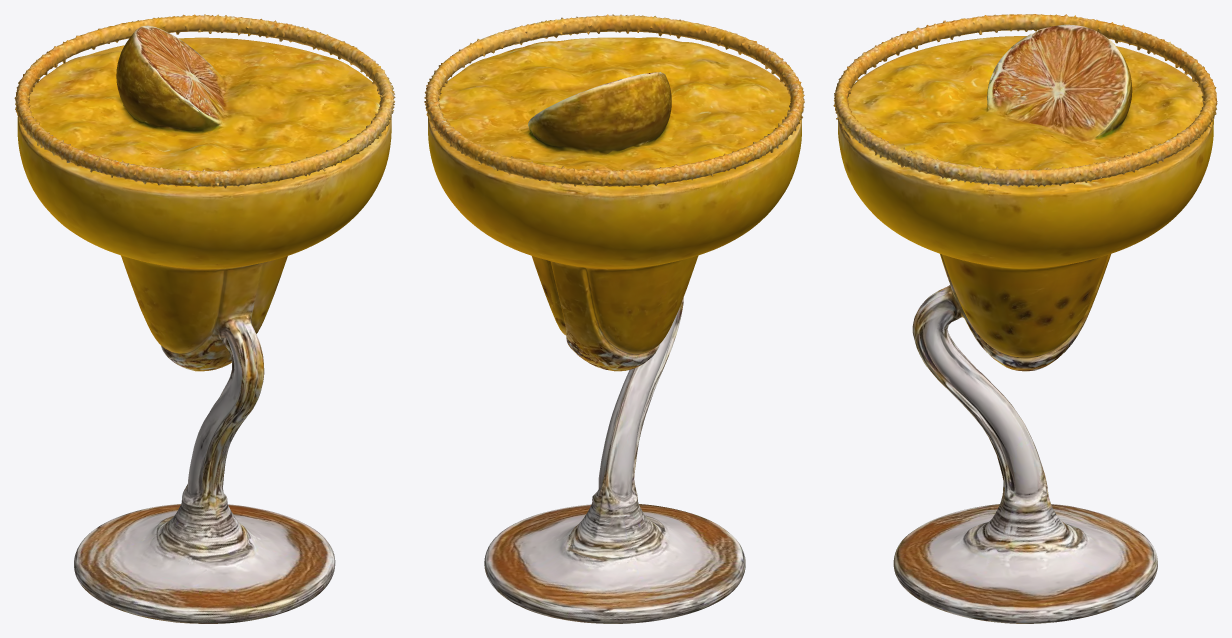
Rendered from modelo-11.glb.
3 renders of one model, left to right at view 1: azimuth 30°, elevation 25°; view 2: azimuth 150°, elevation 25°; view 3: azimuth 270°, elevation 25°, orthographic.
Parts seen in each view (by area): view 1: tripo_node_68a08e48-6b82-4ade-b1e4-b57d2612a01a; view 2: tripo_node_68a08e48-6b82-4ade-b1e4-b57d2612a01a; view 3: tripo_node_68a08e48-6b82-4ade-b1e4-b57d2612a01a.
Boxes of the visible parts, x1,y1,x2,y2 form: tripo_node_68a08e48-6b82-4ade-b1e4-b57d2612a01a: [14, 14, 395, 623]; tripo_node_68a08e48-6b82-4ade-b1e4-b57d2612a01a: [424, 14, 804, 623]; tripo_node_68a08e48-6b82-4ade-b1e4-b57d2612a01a: [833, 14, 1217, 623].
Bounding box in the file's own units: 0.6497 × 0.9795 × 0.6501.
1 material, 1 textured.
